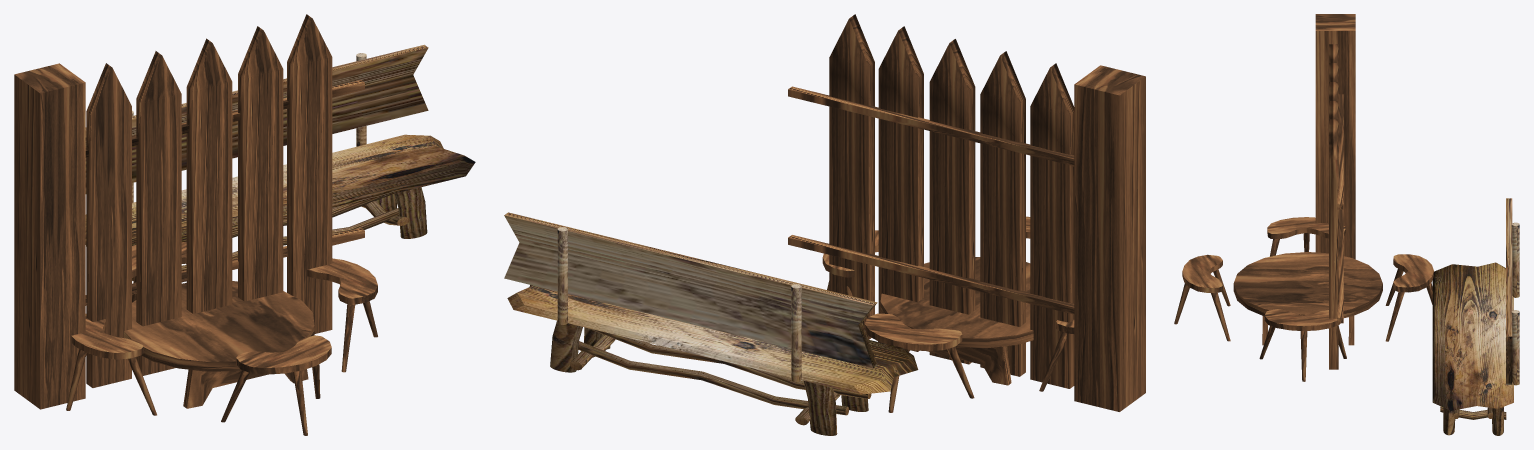
Rendered from Bench - type 2.fbx.
The picture shows the model from 3 angles, left to right: view 1: azimuth 30°, elevation 25°; view 2: azimuth 150°, elevation 25°; view 3: azimuth 270°, elevation 25°; orthographic projection. The views are drawn at different scales.
Parts seen in each view (by area): view 1: pCube18, pCube5, peika_s_oblegalka, Wooden_Table, Wooden_Chair2, Wooden_Chair4, Wooden_Chair3; view 2: pCube18, peika_s_oblegalka, pCube5, Wooden_Table, Wooden_Chair, Wooden_Chair3; view 3: peika_s_oblegalka, Wooden_Table, pCube5, pCube18, Wooden_Chair2, Wooden_Chair4, Wooden_Chair, Wooden_Chair3.
Boxes of the visible parts, x1,y1,x2,y2 form: pCube18: [85, 14, 364, 387]; pCube5: [14, 63, 85, 409]; peika_s_oblegalka: [85, 44, 475, 281]; Wooden_Table: [124, 281, 314, 408]; Wooden_Chair2: [221, 335, 331, 435]; Wooden_Chair4: [307, 258, 377, 372]; Wooden_Chair3: [66, 314, 156, 415]; pCube18: [788, 14, 1074, 388]; peika_s_oblegalka: [504, 212, 918, 435]; pCube5: [1074, 65, 1145, 411]; Wooden_Table: [880, 257, 1033, 385]; Wooden_Chair: [864, 313, 974, 412]; Wooden_Chair3: [1039, 320, 1074, 391]; peika_s_oblegalka: [1432, 198, 1519, 435]; Wooden_Table: [1233, 252, 1382, 345]; pCube5: [1315, 14, 1355, 259]; pCube18: [1329, 44, 1343, 369]; Wooden_Chair2: [1174, 254, 1230, 341]; Wooden_Chair4: [1259, 309, 1346, 381]; Wooden_Chair: [1385, 254, 1433, 341]; Wooden_Chair3: [1267, 217, 1345, 256].
Bounding box in the file's own units: 623 × 361 × 463.
2 materials, 2 textured.
